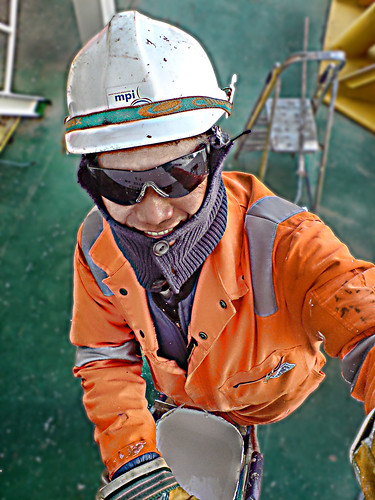person hardhat: (56, 9, 375, 500)
